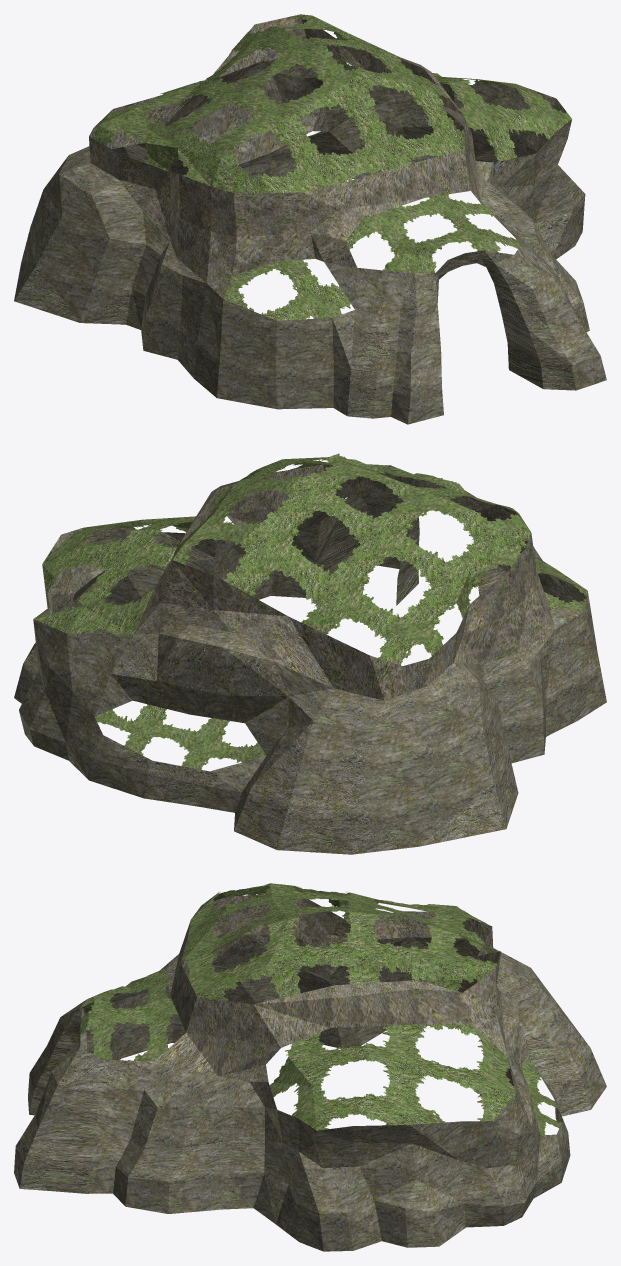
File: poi_all_lair_cave_small_r0_mesh_l2.fbx
3 views of the same model, one above another, from view 1: azimuth 30°, elevation 25°; view 2: azimuth 150°, elevation 25°; view 3: azimuth 270°, elevation 25° (orthographic). The views are drawn at different scales.
Visible parts, largest first — view 1: mesh_node; view 2: mesh_node; view 3: mesh_node.
Part boxes in pixels (left/top/right/bottom): mesh_node: left=14, top=14, right=606, bottom=424; mesh_node: left=14, top=453, right=606, bottom=854; mesh_node: left=14, top=883, right=606, bottom=1251.
Size of the model in its own units: 24.59 by 11.17 by 26.37.
